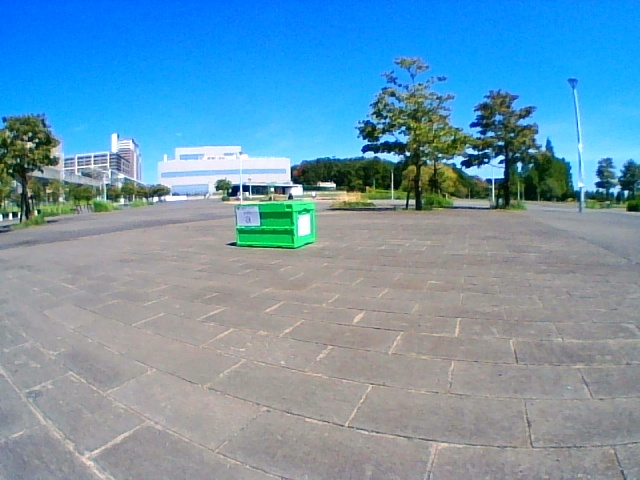green_box: (235, 202, 316, 248)
tag_a: (237, 205, 259, 226)
